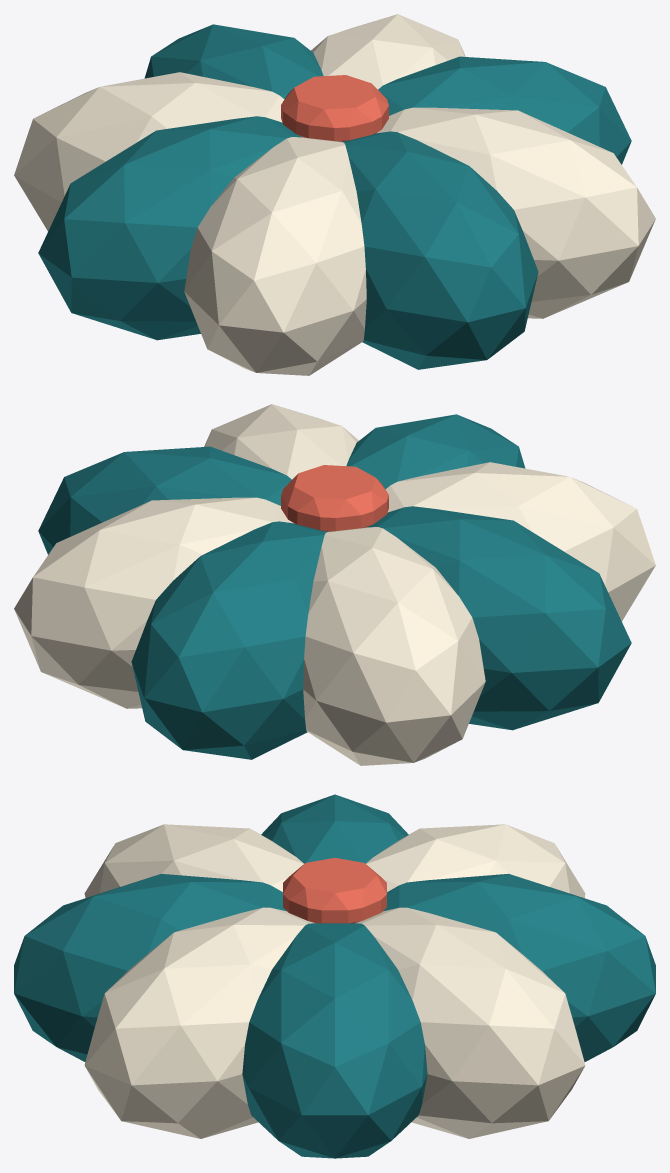
File: cushion_round.glb
The picture shows the model from 3 angles, top to bottom: view 1: azimuth 30°, elevation 25°; view 2: azimuth 150°, elevation 25°; view 3: azimuth 270°, elevation 25°; orthographic projection.
Visible parts, largest first — view 1: cushion_round; view 2: cushion_round; view 3: cushion_round.
Part boxes in pixels (bbox=[...]): cushion_round: bbox=[14, 14, 655, 375]; cushion_round: bbox=[14, 404, 655, 765]; cushion_round: bbox=[14, 794, 655, 1158].
Size of the model in its own units: 0.4473 by 0.155 by 0.4473.
